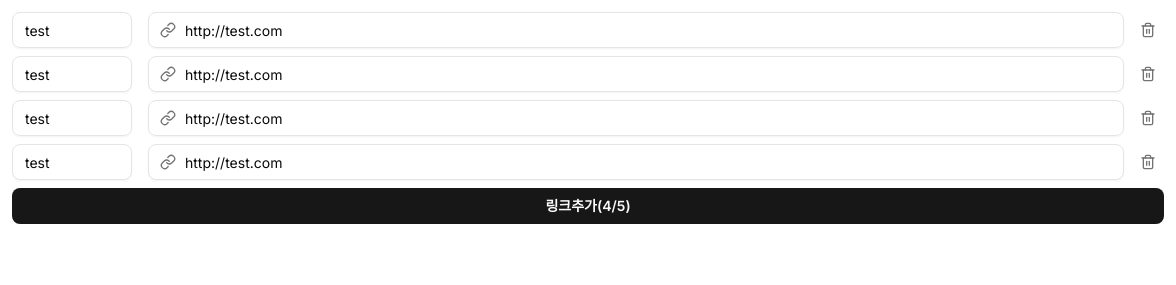
it: ProfileCustomLinks › disables add button when max links reached
The width and height of the screenshot is (1176, 285).
Click the button "링크추가(4/5)".
click(588, 206)  # box [12,188,1164,224]
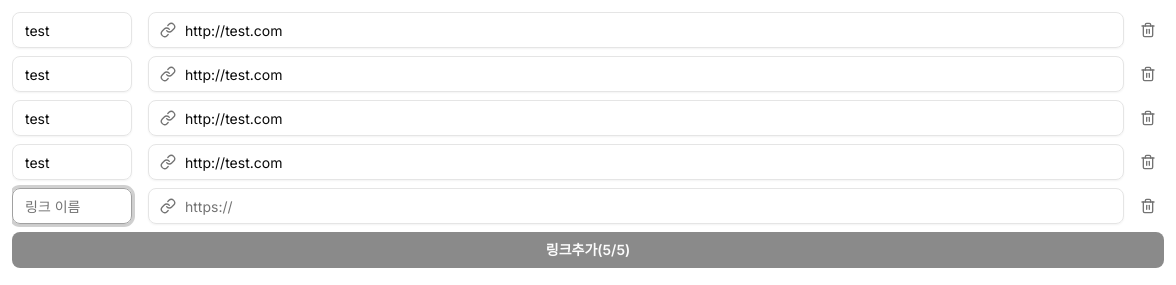
Check: the button "링크추가(5/5)" is disabled, box [12,232,1164,268]
